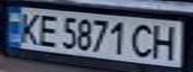1: (106, 19, 130, 55)
5: (57, 15, 78, 49)
7: (90, 17, 112, 53)
8: (72, 16, 93, 52)
C: (127, 20, 160, 60)
E: (33, 12, 63, 48)
H: (148, 21, 184, 61)
K: (15, 9, 42, 46)
